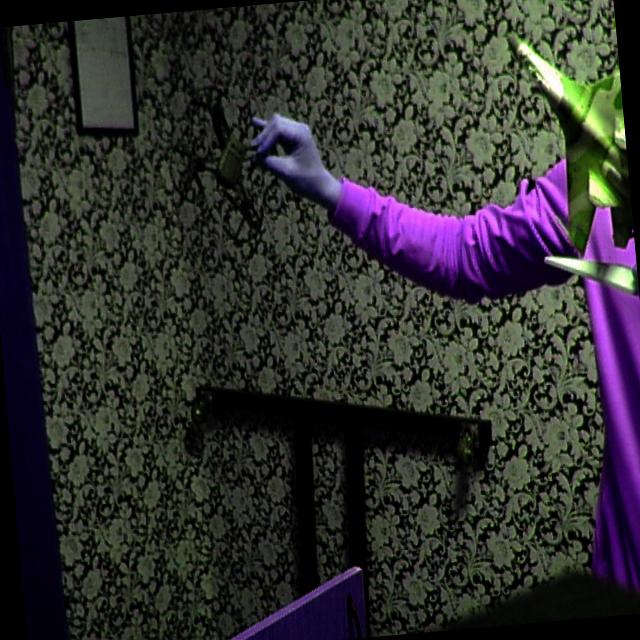drone: (152, 64, 314, 260)
